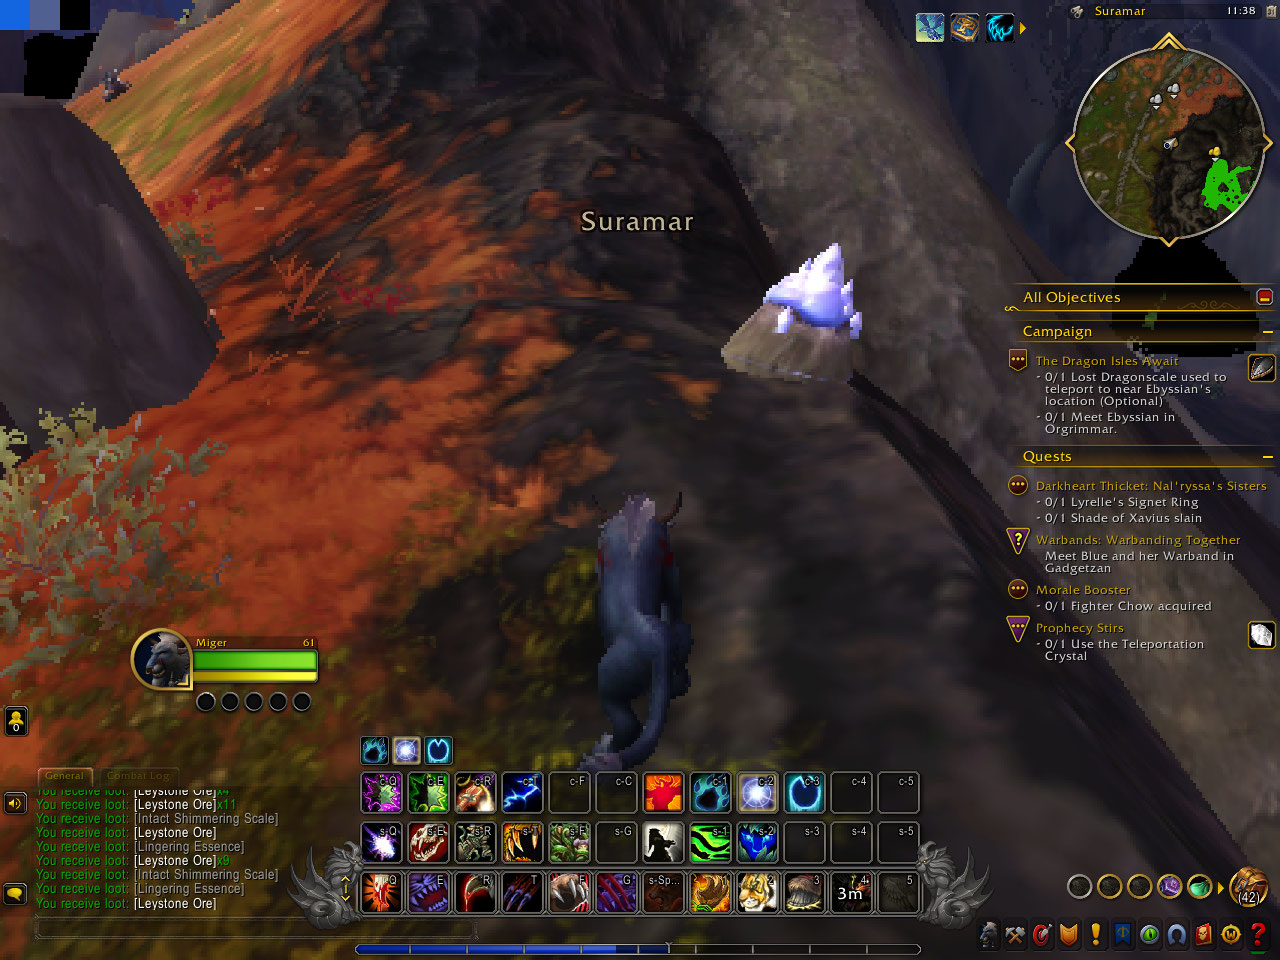ore: (718, 242, 906, 382)
